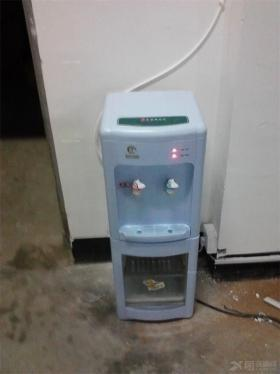Dispenser: (99, 88, 207, 324)
